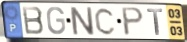B: (21, 5, 46, 36)
C: (93, 7, 117, 36)
G: (46, 6, 67, 36)
N: (68, 5, 97, 36)
P: (121, 6, 145, 37)
T: (146, 8, 164, 37)
